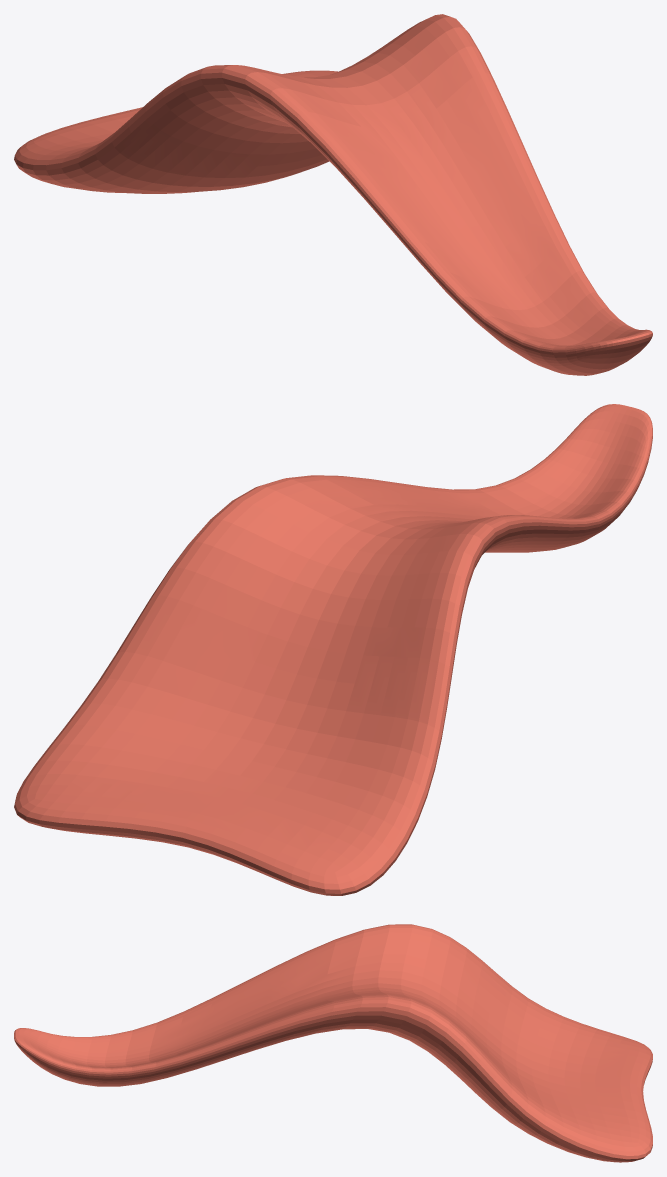
File: ChestTongue.fbx
3 views of the same model, one above another, from view 1: azimuth 30°, elevation 25°; view 2: azimuth 150°, elevation 25°; view 3: azimuth 270°, elevation 25° (orthographic). The views are drawn at different scales.
Parts seen in each view (by area): view 1: Cube; view 2: Cube; view 3: Cube.
Boxes of the visible parts, x1=… form: Cube: x1=14, y1=14, x2=652, y2=375; Cube: x1=14, y1=404, x2=652, y2=895; Cube: x1=14, y1=924, x2=652, y2=1162.
Bounding box in the file's own units: 57.19 × 33.77 × 128.
